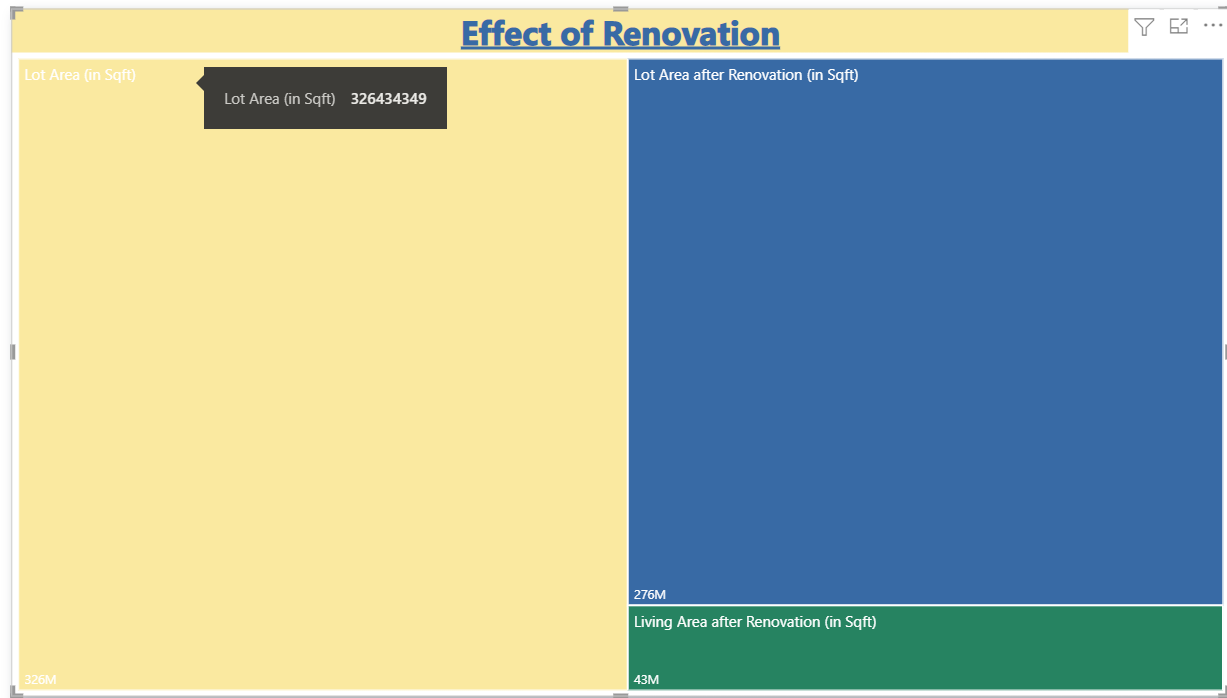

This screenshot's page, from the dashboard's own definition file:
{"tool":"powerbi","page":{"name":"Page 4","canvas":[1280,720],"ordinal":3},"visuals":[{"type":"treemap","title":"Effect of Renovation","fields":{"Values":["Sum(Transformed House Price2.Lot Area (in Sqft))","Sum(Transformed House Price2.Lot Area after Renovation (in Sqft))","Sum(Transformed House Price2.Living Area after Renovation (in Sqft))","Sum(Transformed House Price2.Ever_Renovated_Yes)","Sum(Transformed House Price2.Year Since Renovation)"]},"box":[188.7,69.4,973.8,550.1],"z":0}]}

Visuals, with their boxes on the page's 1280x720 design canvas (x1, y1, x2, y2). These are canvas units, not pixel positions in the 1227x698 screenshot, which may show the page scaled, cropped or inside an application window:
"Effect of Renovation" treemap: [left=189, top=69, right=1162, bottom=620]
